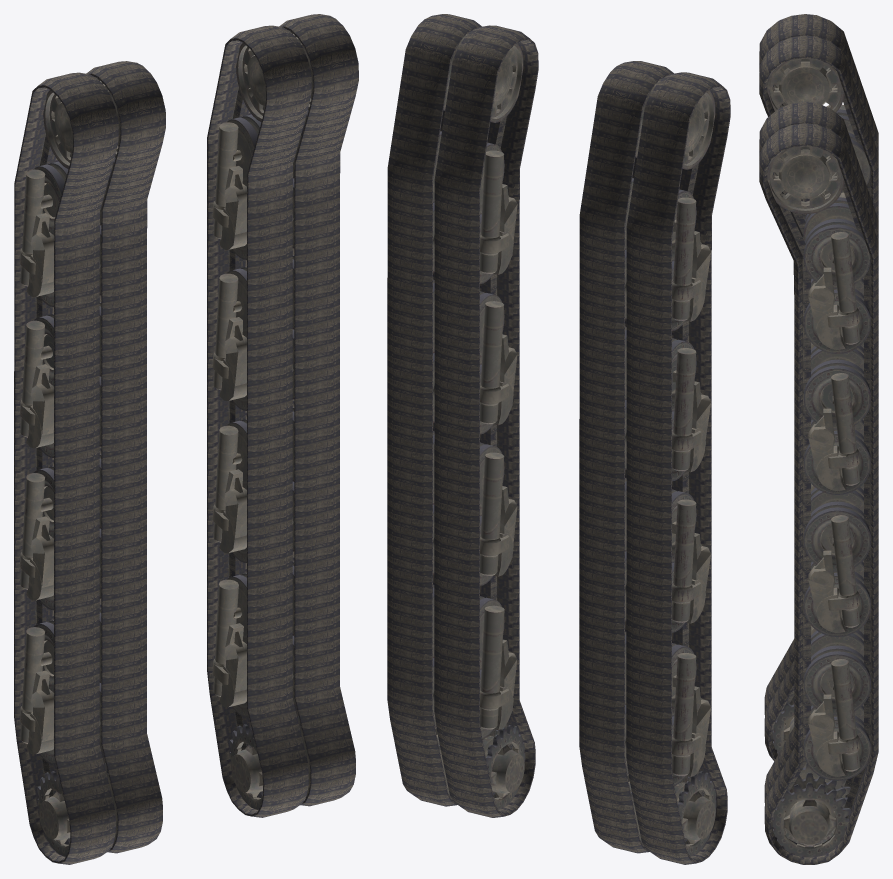
Rendered from Chassis.glb.
3 views of the same model, side by side, from view 1: azimuth 30°, elevation 25°; view 2: azimuth 150°, elevation 25°; view 3: azimuth 270°, elevation 25° (orthographic). The views are drawn at different scales.
Parts seen in each view (by area): view 1: set_1_group_0, set_0_group_0, set_3_group_0, set_2_group_0; view 2: set_0_group_0, set_1_group_0, set_2_group_0, set_3_group_0; view 3: set_3_group_0, set_0_group_0, set_1_group_0, set_2_group_0.
Part boxes in pixels (x1,y1,x2,y2): set_1_group_0: [14, 61, 165, 864]; set_0_group_0: [207, 14, 358, 817]; set_3_group_0: [212, 31, 313, 809]; set_2_group_0: [19, 78, 120, 856]; set_0_group_0: [387, 14, 538, 817]; set_1_group_0: [579, 61, 730, 864]; set_2_group_0: [624, 78, 716, 856]; set_3_group_0: [432, 32, 525, 809]; set_3_group_0: [767, 145, 870, 856]; set_0_group_0: [759, 102, 878, 864]; set_1_group_0: [759, 14, 878, 761]; set_2_group_0: [767, 57, 870, 754].
Bounding box in the file's own units: 3.35 × 8.35 × 1.24.
Materials: 4 (4 with a texture image).
